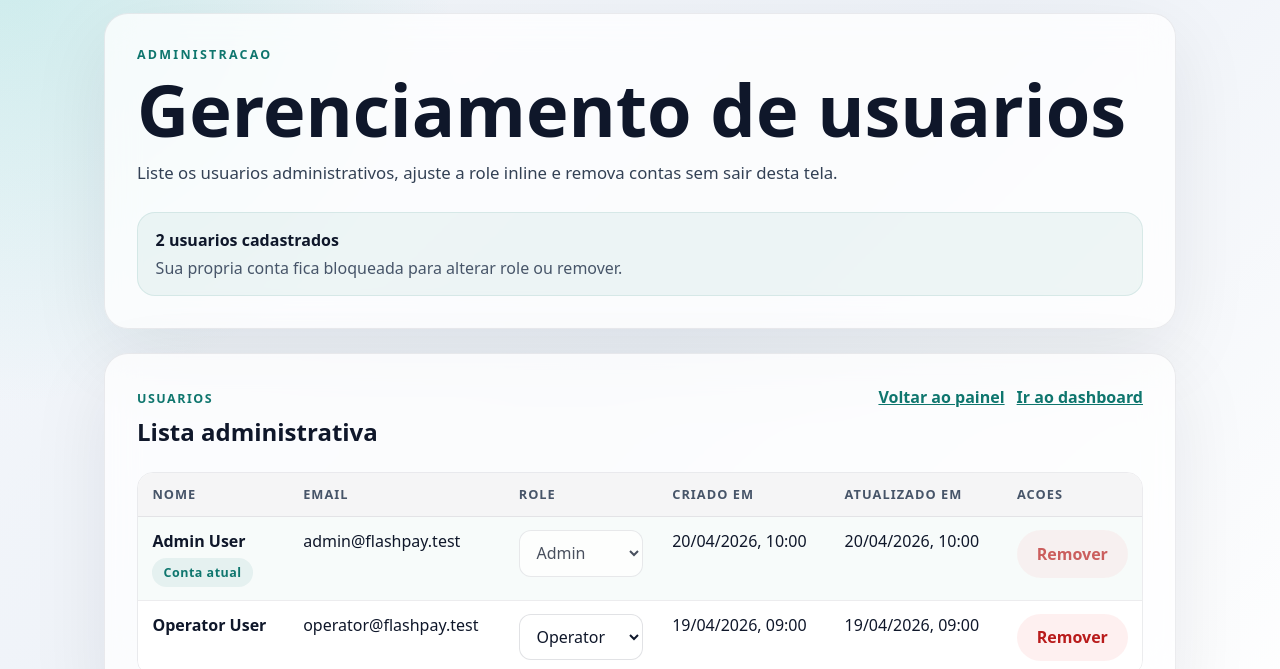
Scenario: AdminUsersPage › updates the role inline and shows success feedback
The width and height of the screenshot is (1280, 669).
Select "Admin" in the dropdown named "Alterar role de Operator User" at {"x": 581, "y": 637}, box [519,614,644,660]
(page scrolled)
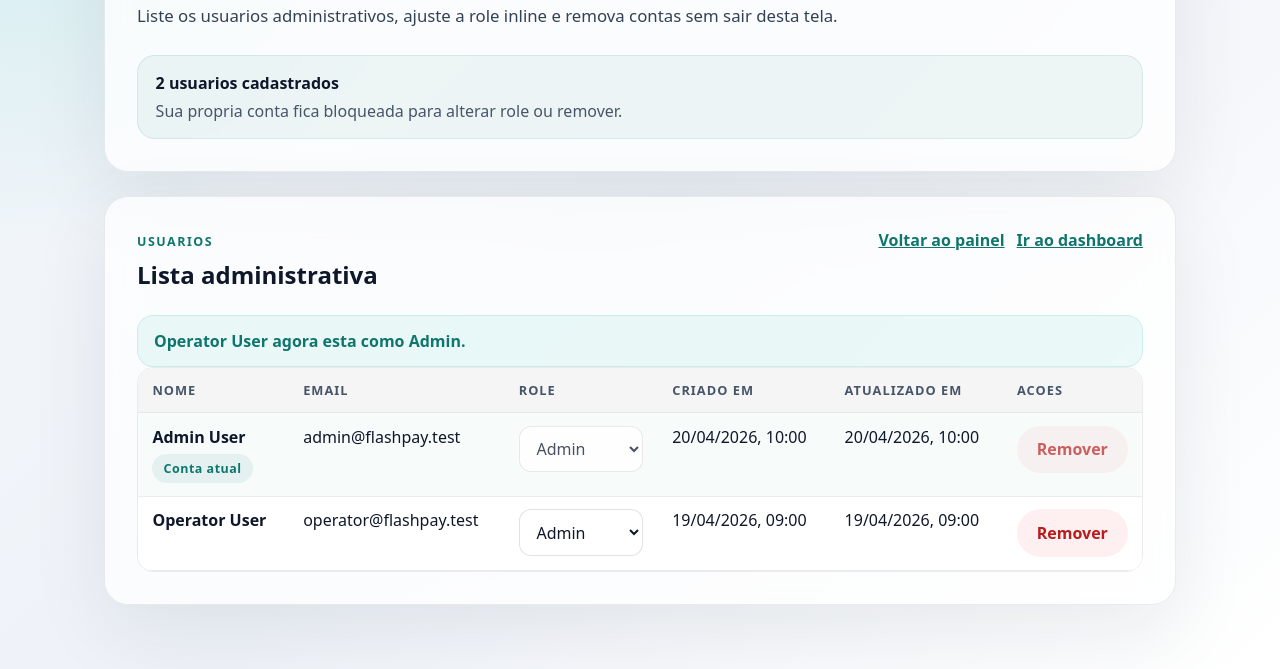
Result: the text "Operator User agora esta como Admin." is shown at [137,314,1143,367]
